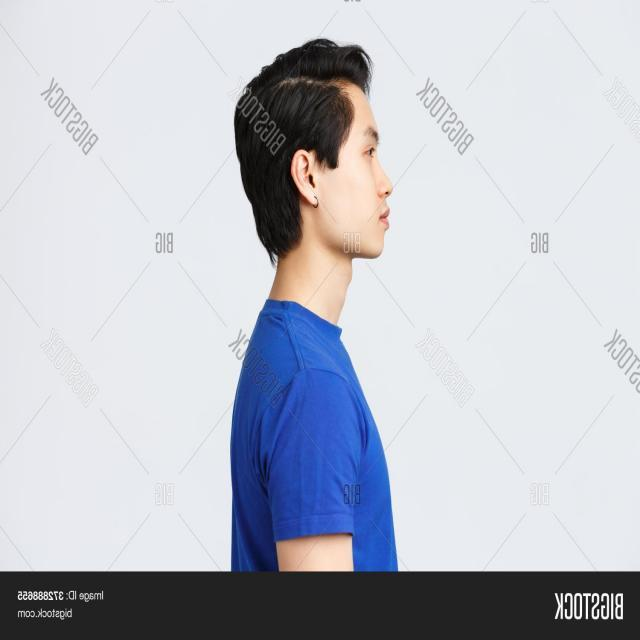Healthy: (273, 225, 353, 321)
